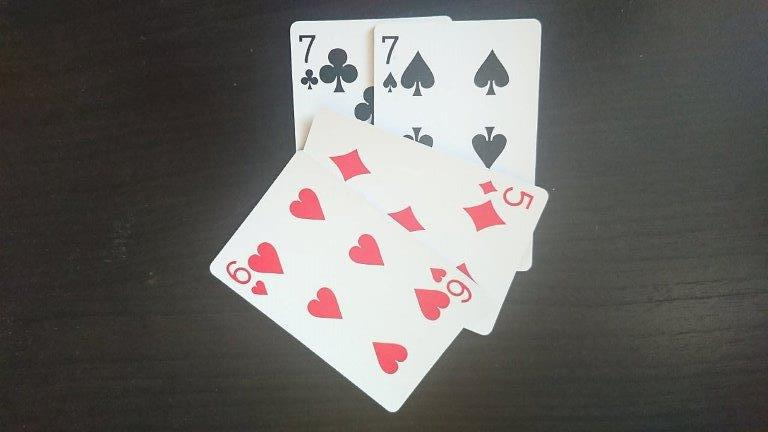6H: (219, 252, 271, 302)
7C: (293, 23, 324, 93)
7S: (378, 28, 410, 98)
